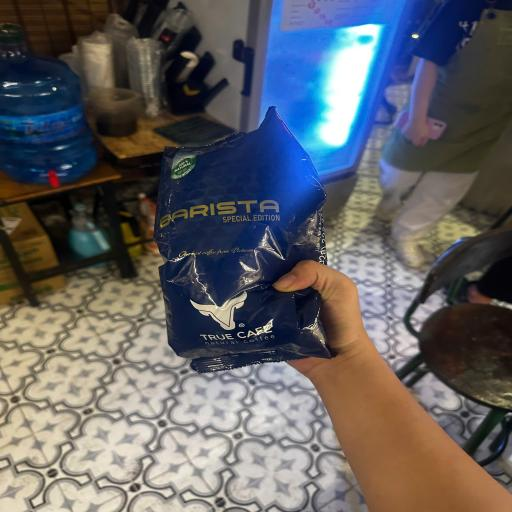cafe_hat: (149, 106, 350, 374)
